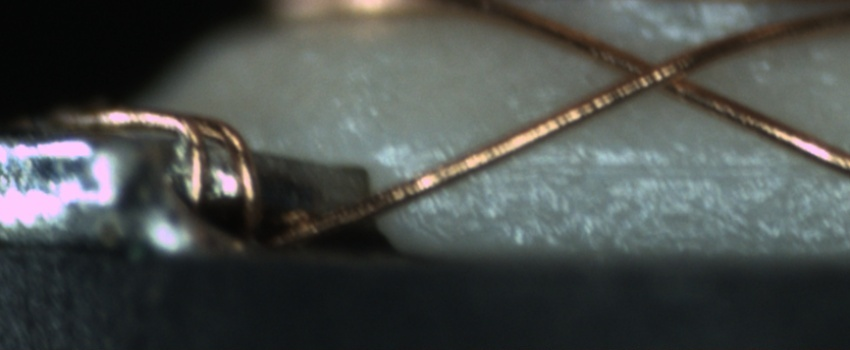CL: (608, 43, 707, 101)
DL: (416, 134, 850, 198)
TE: (55, 98, 273, 251)
